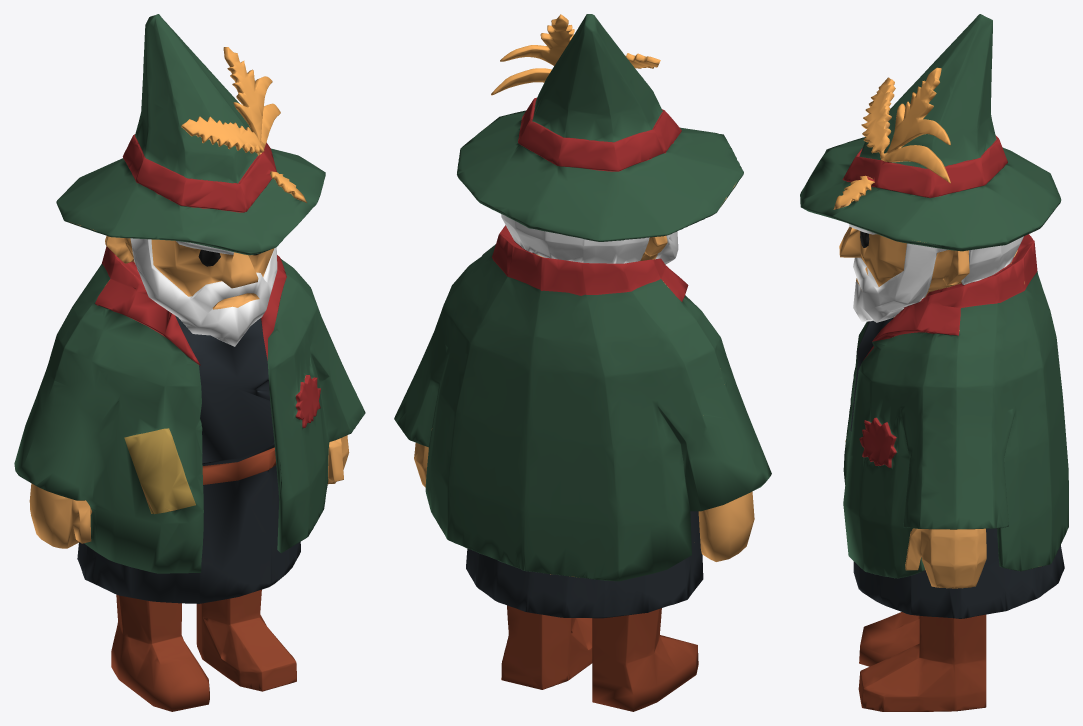
The model's file is MALLOW-STAND.fbx.
3 renders of one model, left to right at view 1: azimuth 30°, elevation 25°; view 2: azimuth 150°, elevation 25°; view 3: azimuth 270°, elevation 25°, orthographic. The views are drawn at different scales.
Visible parts, largest first — view 1: MALLOW; view 2: MALLOW; view 3: MALLOW.
Part boxes in pixels (left/top/right/bottom): MALLOW: left=14, top=14, right=365, bottom=711; MALLOW: left=394, top=14, right=771, bottom=711; MALLOW: left=800, top=14, right=1068, bottom=711.
Bounding box in the file's own units: 63.3 × 116 × 43.18.
